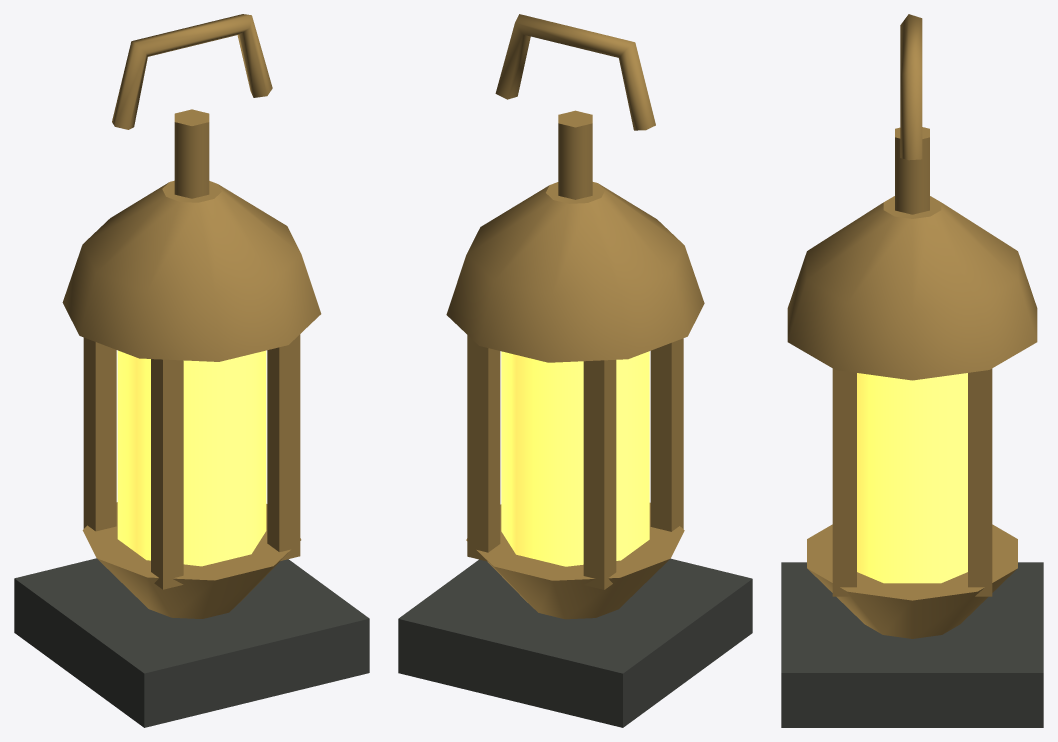
The model's file is hand_lantern.glb.
3 views of the same model, side by side, from view 1: azimuth 30°, elevation 25°; view 2: azimuth 150°, elevation 25°; view 3: azimuth 270°, elevation 25° (orthographic).
Parts seen in each view (by area): view 1: hand_lantern; view 2: hand_lantern; view 3: hand_lantern.
Boxes of the visible parts, bbox=[...] form: hand_lantern: bbox=[14, 14, 369, 727]; hand_lantern: bbox=[398, 14, 752, 727]; hand_lantern: bbox=[781, 14, 1043, 727].
Bounding box in the file's own units: 0.26 × 0.689 × 0.26.
